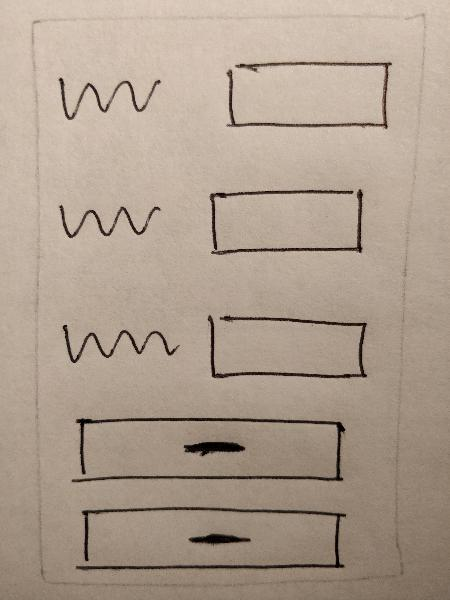button: (65, 408, 349, 490), (64, 498, 352, 578)
text: (53, 309, 187, 380), (48, 68, 167, 120), (49, 195, 167, 241)
text_input: (212, 49, 401, 145), (198, 307, 376, 392), (203, 184, 373, 263)
